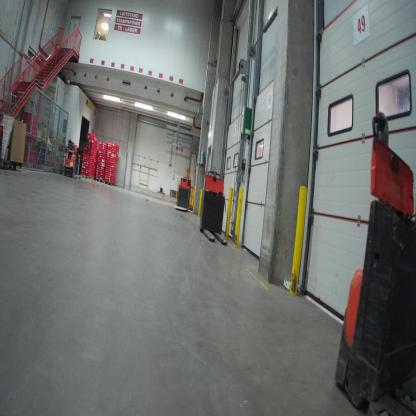pallet: (91, 174, 104, 183), (81, 171, 93, 180), (103, 180, 116, 186)
pallet_truck: (330, 105, 414, 413), (198, 164, 231, 248), (1, 106, 29, 168), (175, 171, 194, 216), (62, 139, 79, 178)
